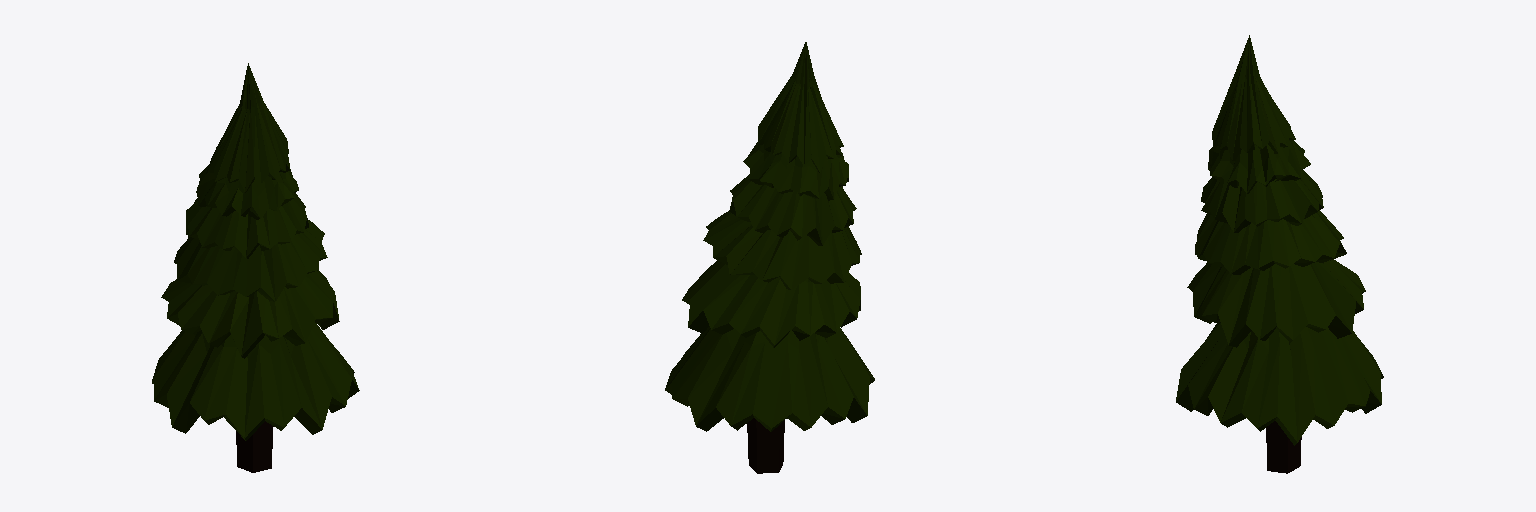
Rendered from Pine_03.obj.
The picture shows the model from 3 angles: view 1: azimuth 30°, elevation 25°; view 2: azimuth 150°, elevation 25°; view 3: azimuth 270°, elevation 25°; orthographic projection.
Parts seen in each view (by area): view 1: Cylinder.001, Cylinder; view 2: Cylinder.001, Cylinder; view 3: Cylinder.001, Cylinder.
Part boxes in pixels (x1,y1,x2,y2): Cylinder.001: (152, 63, 359, 440); Cylinder: (236, 421, 273, 472); Cylinder.001: (665, 42, 874, 431); Cylinder: (747, 418, 784, 473); Cylinder.001: (1176, 35, 1383, 445); Cylinder: (1266, 421, 1301, 473).
Size of the model in its own units: 2.85 by 6.24 by 2.8.